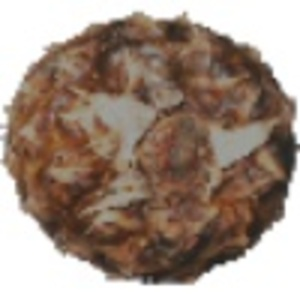abacaxi: (2, 11, 290, 275)
